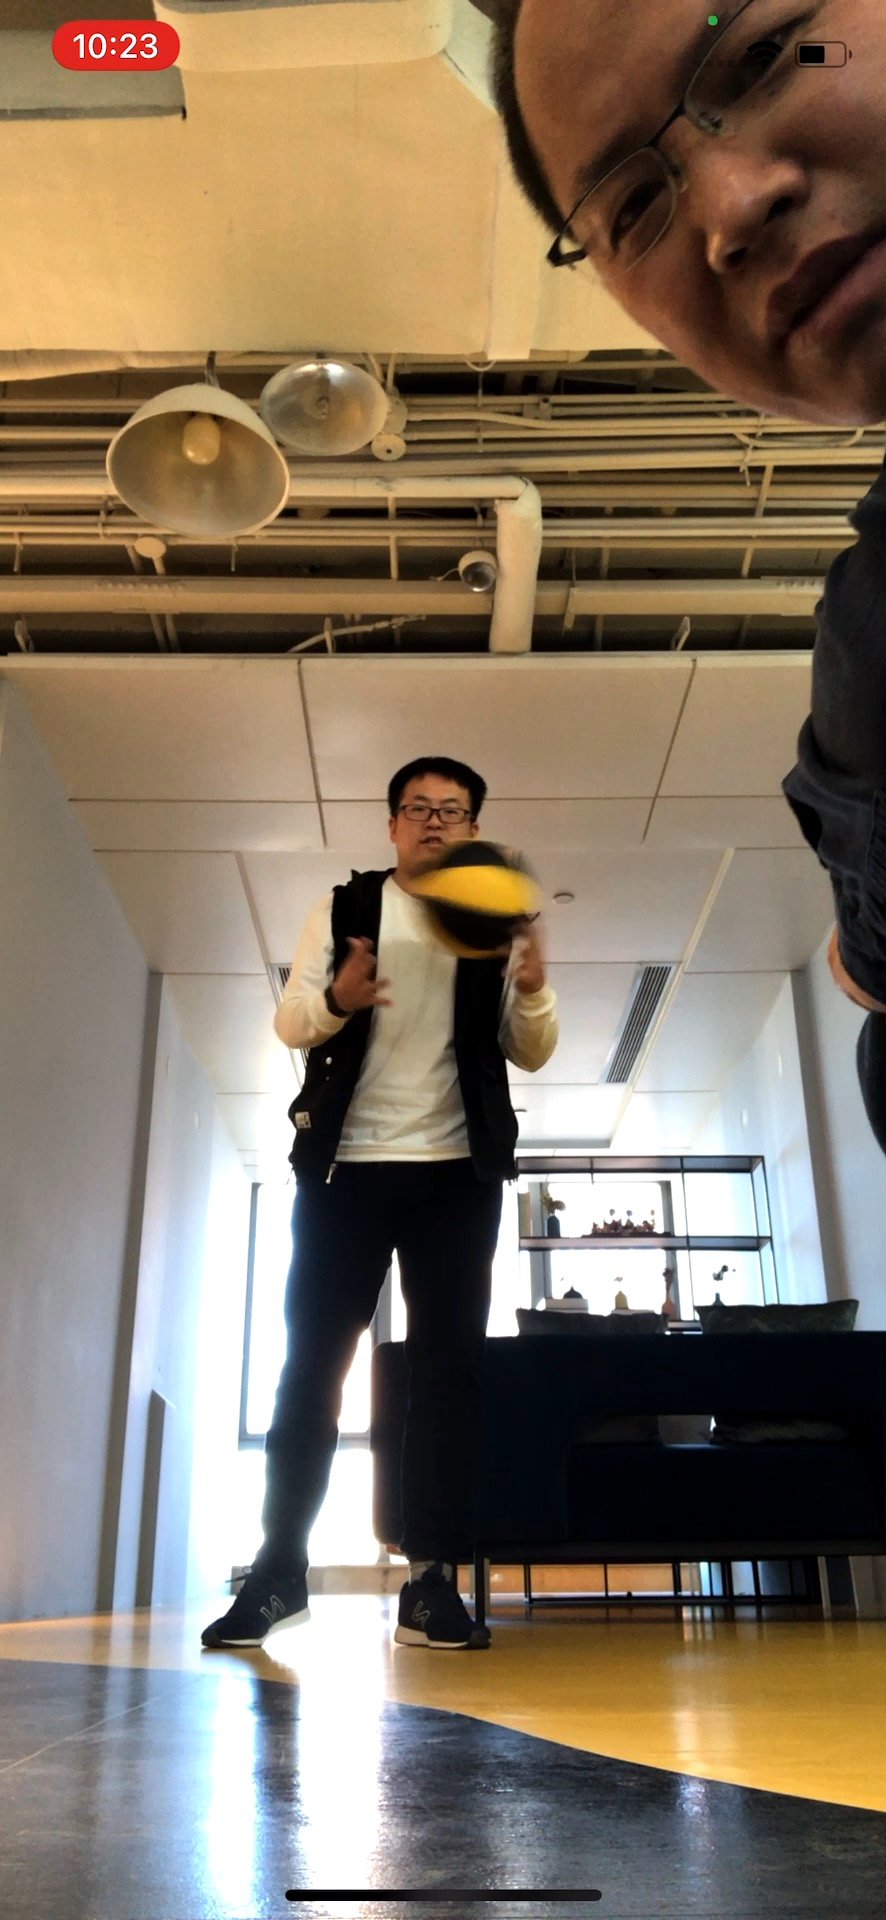ball: (414, 842, 545, 959)
